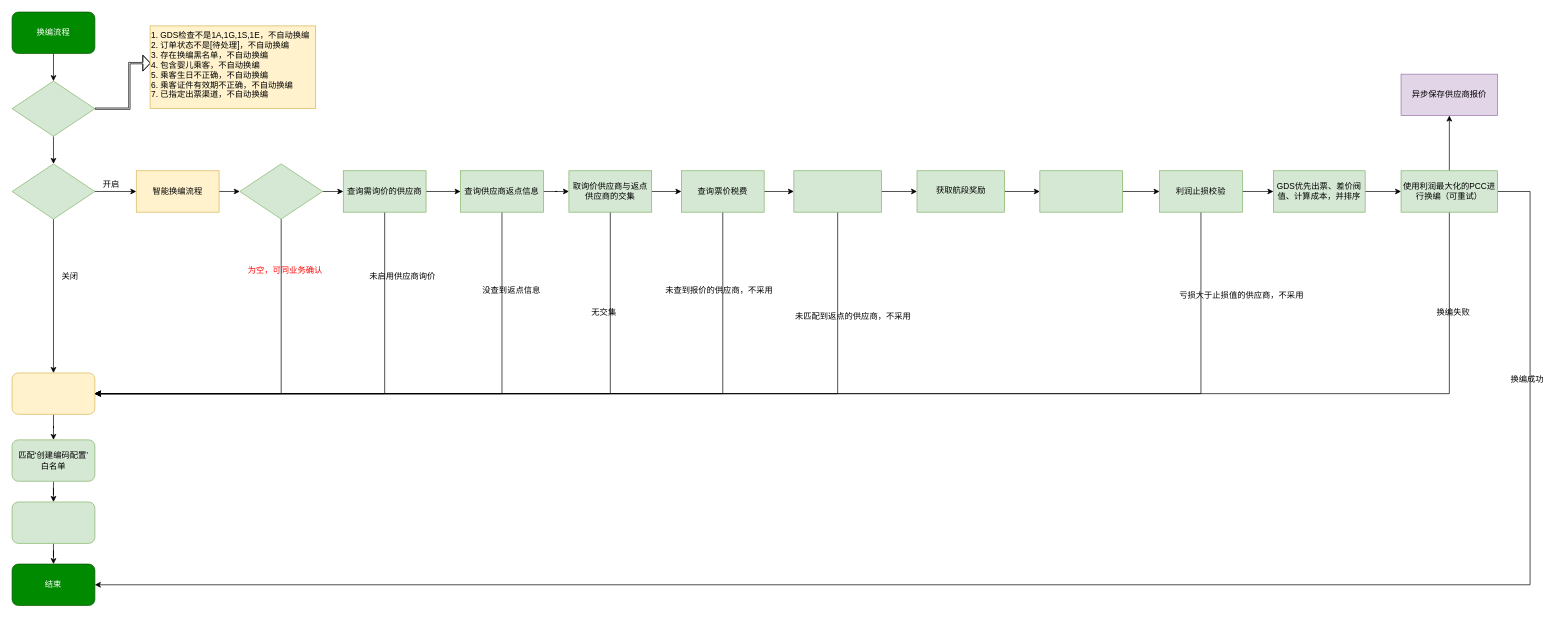
Image size: 1563x618. Some labels were removed from this diagram. The shapes that lost their labels are listed below. From the top down, each one's centre as x and y in pixels, then its label:
At [53,108]: "换编前置检查".
At [53,191]: "智能换编开关".
At [281,191]: "确定主销售航司".
At [837,191]: "计算供应商返点".
At [1081,191]: "是否使用虚拟卡".
At [53,393]: "原换编流程".
At [53,522]: "换编（失败重试）".
